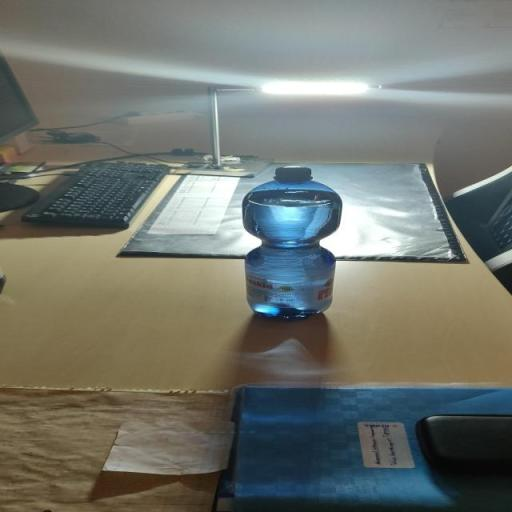plastic: (243, 166, 342, 320)
